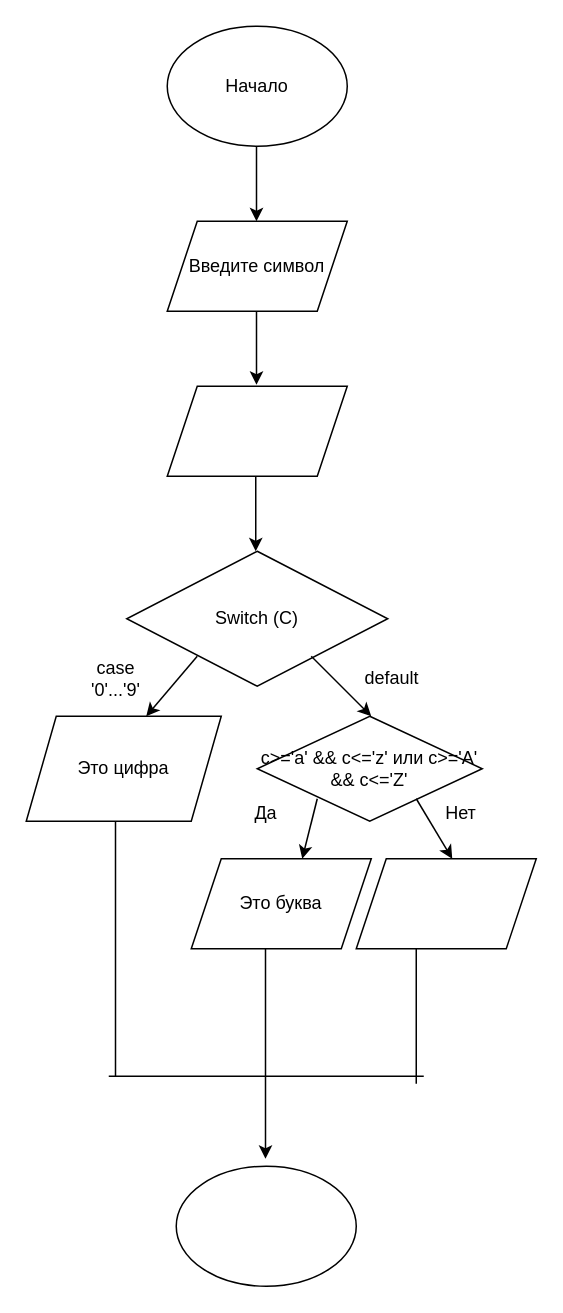
Some shapes in this 563 by 1313 pixel diagram are drawn without their labels. The shapes that lost their labels are listed below. From the top down, each one's centre as x and y in pixels, then its label:
At pixel 256 430: "Ввод C".
At pixel 445 903: "Неизвестный символ".
At pixel 265 1225: "Конец".
